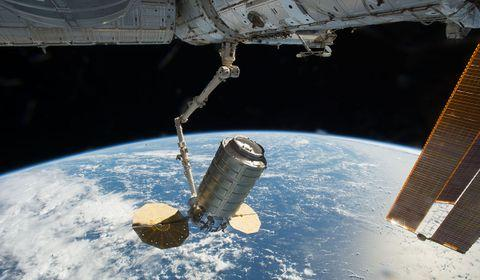antenna: (131, 202, 190, 249), (229, 201, 262, 236)
body: (173, 0, 480, 47), (0, 0, 178, 49), (189, 134, 268, 233)
solar: (384, 41, 480, 256)
thruster: (230, 135, 265, 162)
